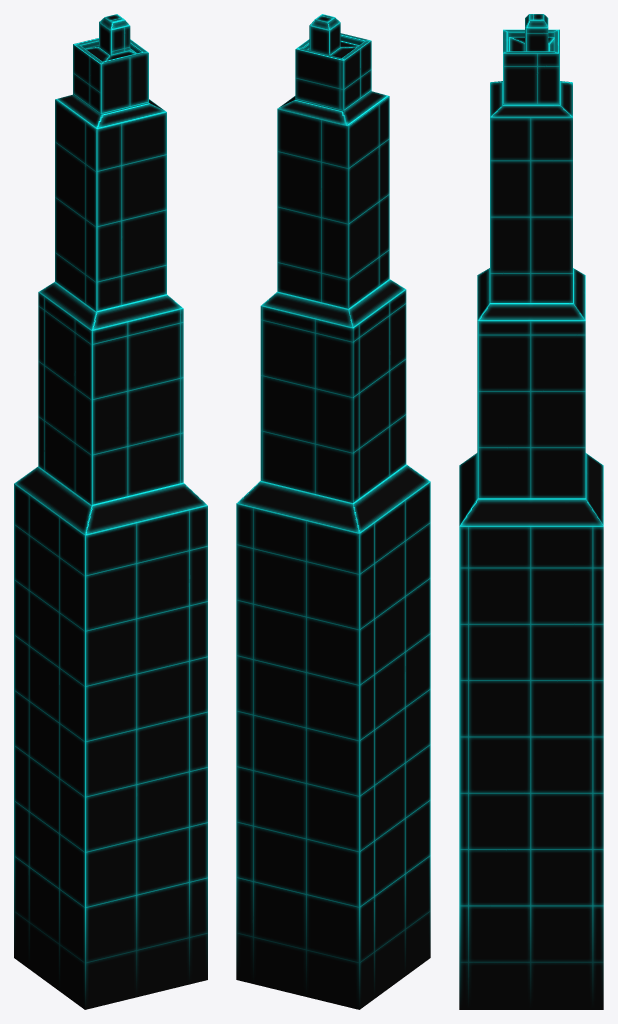
File: building1.FBX
3 views of the same model, side by side, from view 1: azimuth 30°, elevation 25°; view 2: azimuth 150°, elevation 25°; view 3: azimuth 270°, elevation 25° (orthographic).
Visible parts, largest first — view 1: Box001; view 2: Box001; view 3: Box001.
Part boxes in pixels (<box>): Box001: <box>14,14,207,1009</box>; Box001: <box>236,14,430,1009</box>; Box001: <box>459,14,603,1009</box>.
Bounding box in the file's own units: 100 × 740 × 100.
Materials: 1 (1 with a texture image).
